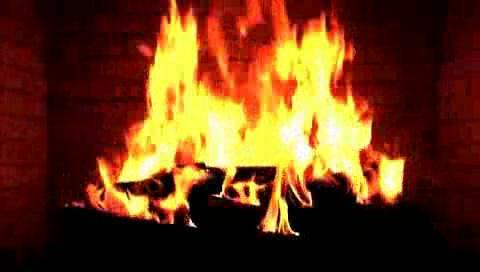fire: (127, 16, 388, 217)
